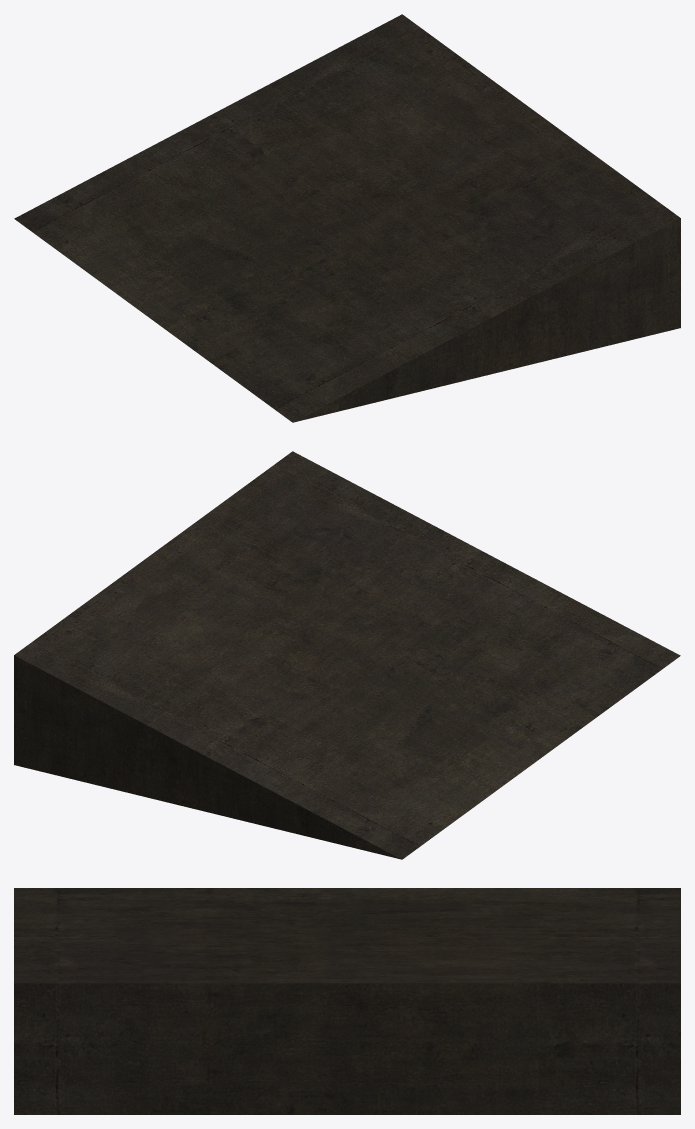
File: ramp_platform_wide_mx_1.fbx
3 views of the same model, one above another, from view 1: azimuth 30°, elevation 25°; view 2: azimuth 150°, elevation 25°; view 3: azimuth 270°, elevation 25° (orthographic). The views are drawn at different scales.
Parts seen in each view (by area): view 1: ramp_platform_wide_mx_1; view 2: ramp_platform_wide_mx_1; view 3: ramp_platform_wide_mx_1.
Boxes of the visible parts, bbox=[...] form: ramp_platform_wide_mx_1: bbox=[14, 14, 680, 422]; ramp_platform_wide_mx_1: bbox=[14, 451, 680, 859]; ramp_platform_wide_mx_1: bbox=[14, 888, 680, 1114].
Size of the model in its own units: 3.7 by 4.6 by 1.
